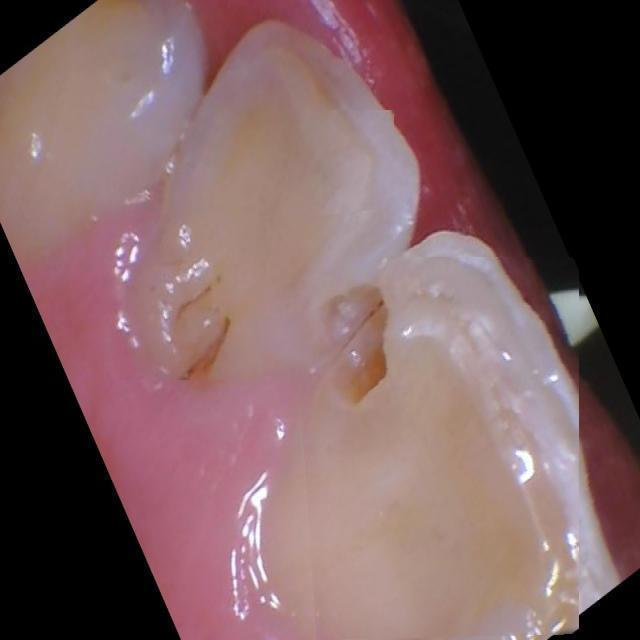Cavity: (291, 257, 579, 640), (104, 191, 267, 380), (288, 110, 396, 220)
